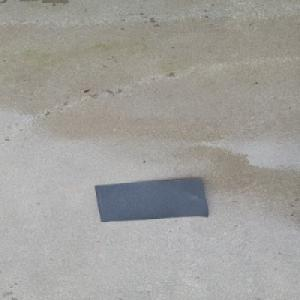PaintChip: (95, 178, 210, 222)
